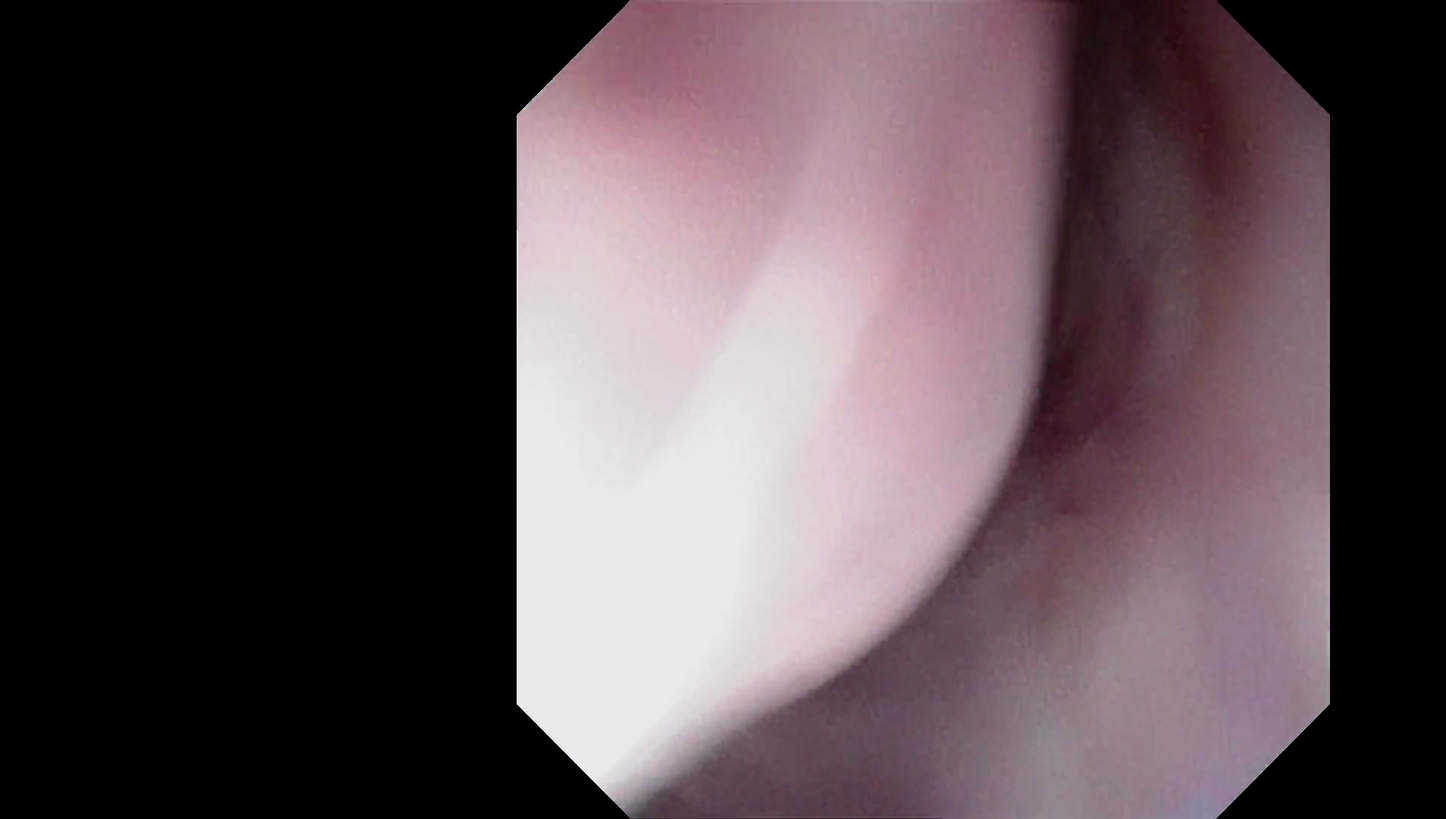close_wall: (530, 181, 961, 700)
next: (1007, 0, 1169, 427)
